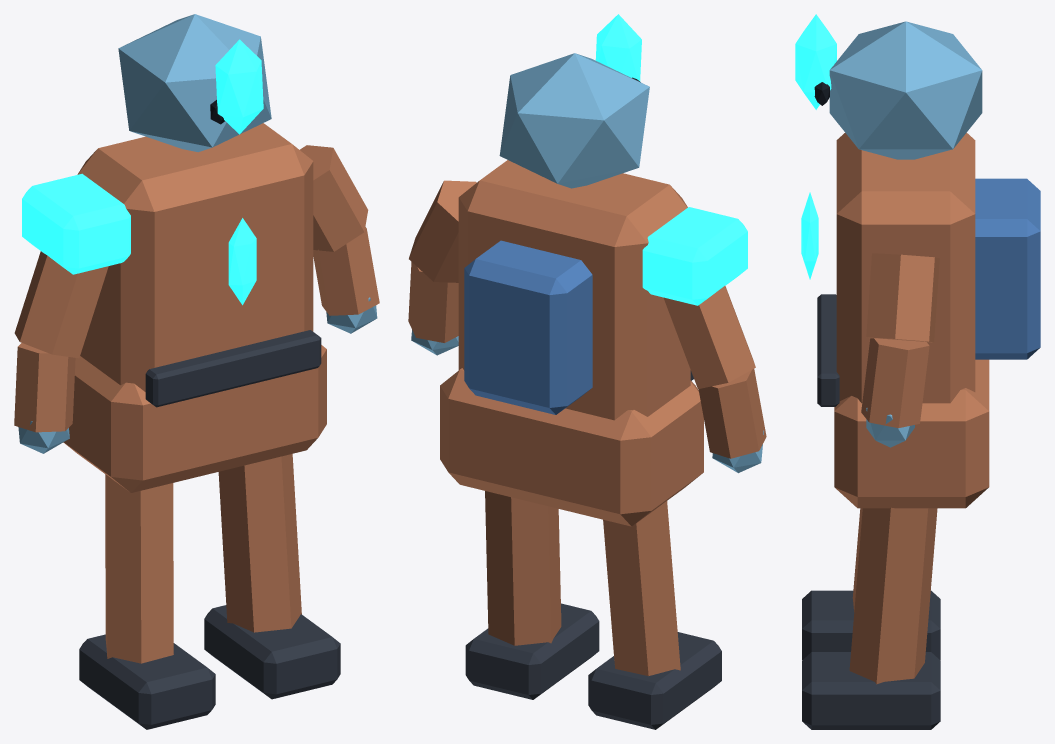
The model's file is npcs_039_seed78877.glb.
The picture shows the model from 3 angles, left to right: view 1: azimuth 30°, elevation 25°; view 2: azimuth 150°, elevation 25°; view 3: azimuth 270°, elevation 25°; orthographic projection. The views are drawn at different scales.
Parts seen in each view (by area): view 1: npcs_039_seed78877; view 2: npcs_039_seed78877; view 3: npcs_039_seed78877.
Part boxes in pixels (x1,y1,x2,y2): npcs_039_seed78877: [14, 14, 379, 729]; npcs_039_seed78877: [408, 14, 766, 729]; npcs_039_seed78877: [795, 14, 1040, 729].
Size of the model in its own units: 1.08 by 1.93 by 0.6379.
